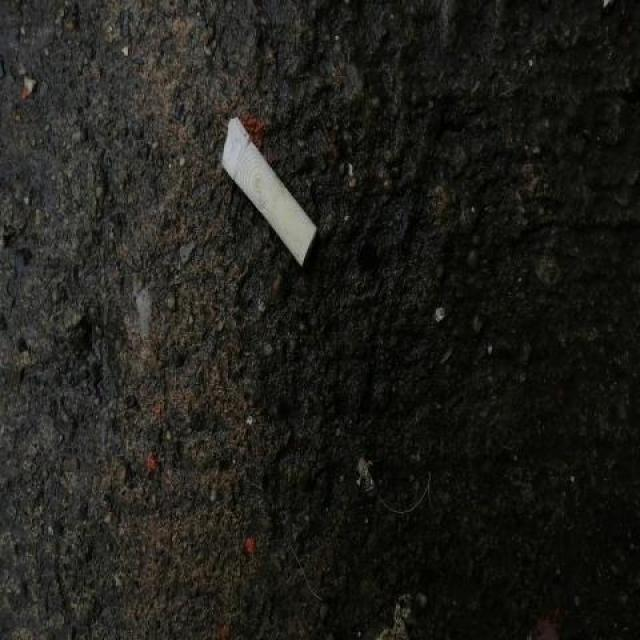non-organic waste: (217, 112, 323, 276)
